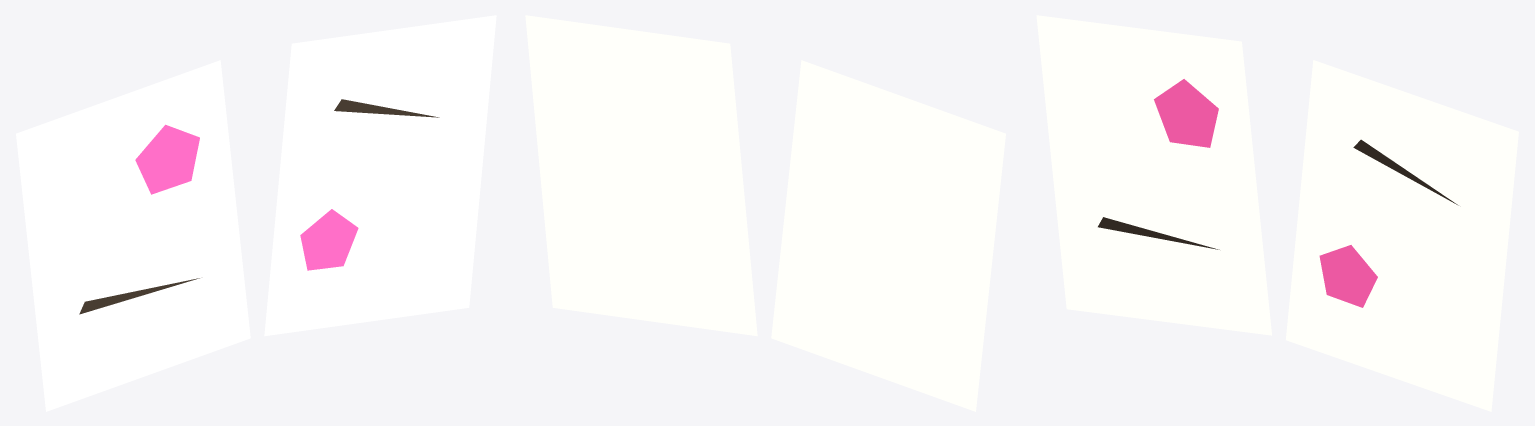
The model's file is note-pink.glb.
3 views of the same model, side by side, from view 1: azimuth 30°, elevation 25°; view 2: azimuth 150°, elevation 25°; view 3: azimuth 330°, elevation 25° (orthographic).
Parts seen in each view (by area): view 1: note-pink; view 2: note-pink; view 3: note-pink.
Part boxes in pixels (x1,y1,x2,y2): note-pink: (16,15,496,411); note-pink: (525,15,1005,411); note-pink: (1036,15,1518,411).
Size of the model in its own units: 0.7003 by 0.4305 by 0.007.
